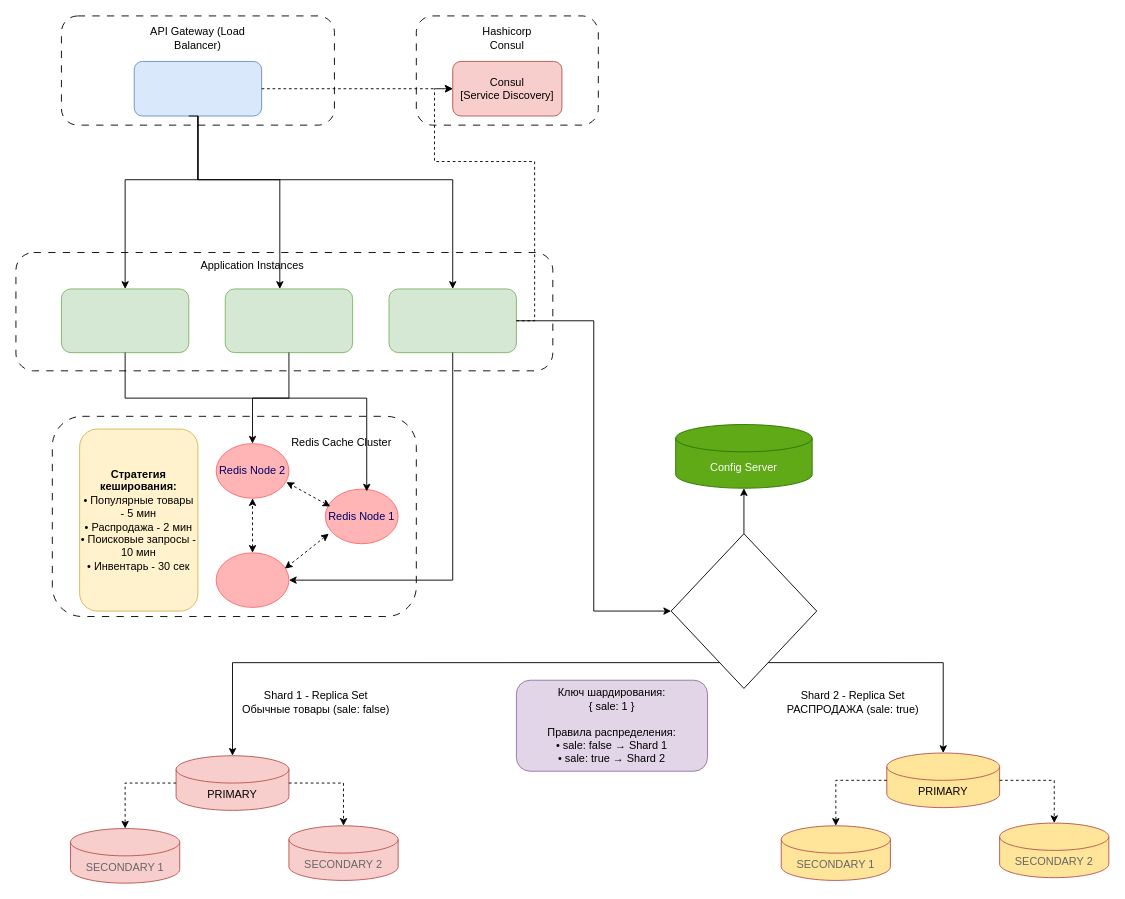
Image size: 1125x899. Some labels were removed from this diagram. The centre of each missing label's shape, as x and y in pixels:
API Gateway [Round Robin]: point (197, 88)
mongos Router: point (743, 610)
pymongo-api Instance 1 [с логикой кеширования]: point (125, 320)
pymongo-api Instance 2 [с логикой кеширования]: point (288, 320)
pymongo-api Instance 3 [с логикой кеширования]: point (452, 320)
Redis Node 3: point (252, 579)
